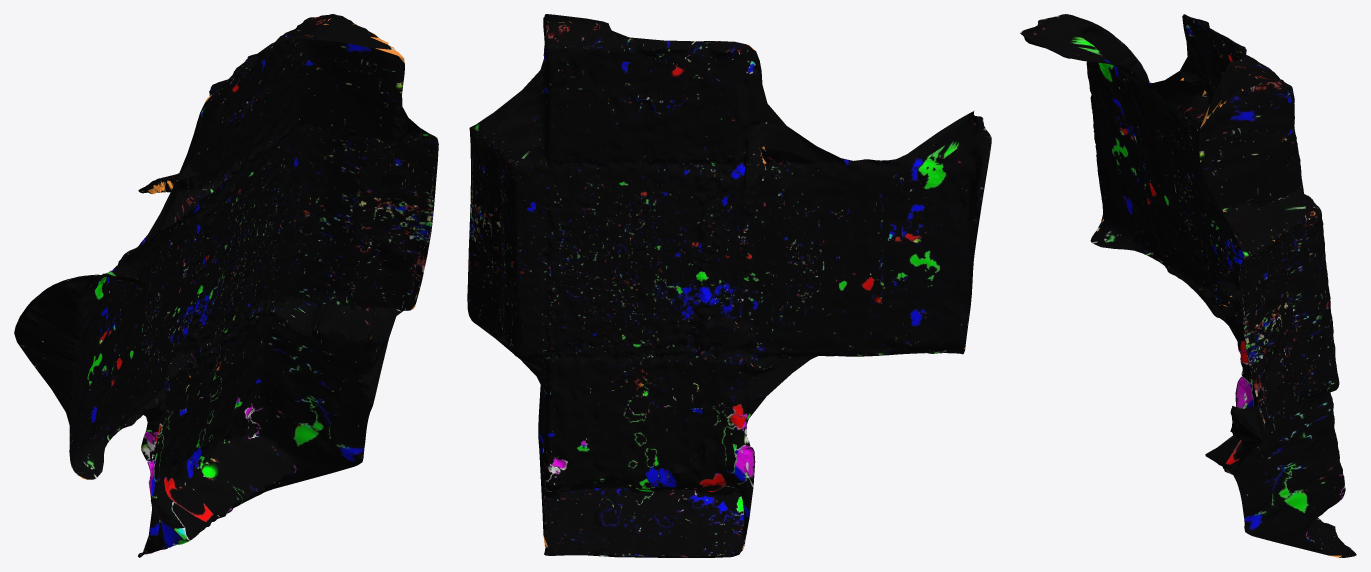
The picture shows the model from 3 angles, left to right: view 1: azimuth 30°, elevation 25°; view 2: azimuth 150°, elevation 25°; view 3: azimuth 270°, elevation 25°; orthographic projection. The views are drawn at different scales.
Parts seen in each view (by area): view 1: scene_textured; view 2: scene_textured; view 3: scene_textured.
Boxes of the visible parts, <box> form: scene_textured: <box>14,14,438,557</box>; scene_textured: <box>467,14,991,557</box>; scene_textured: <box>1020,14,1356,557</box>.
Size of the model in its own units: 4.77 by 4.84 by 2.98.
Materials: 1 (1 with a texture image).
